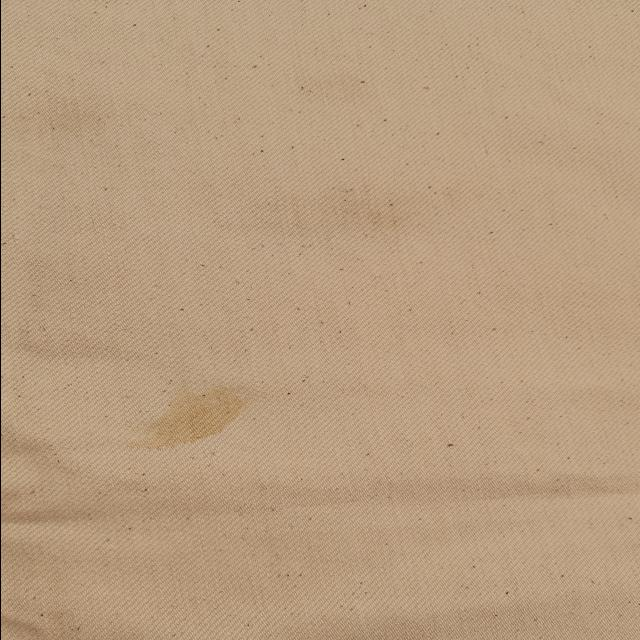taaaches: (137, 386, 275, 454)
